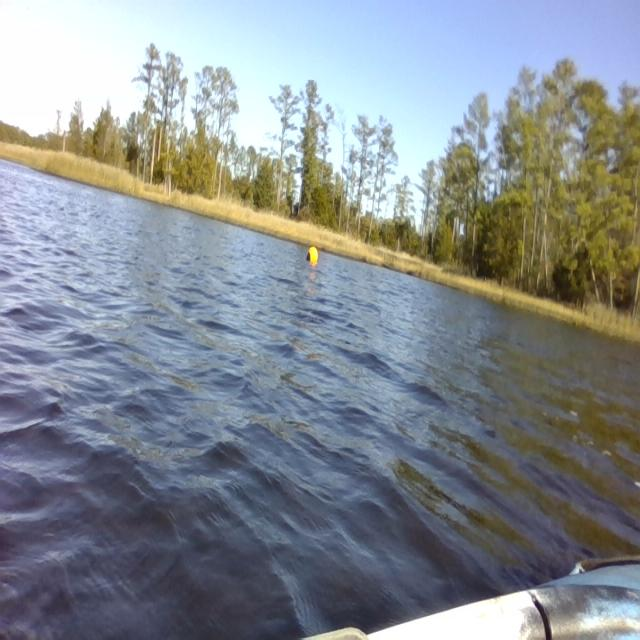Buoy: (305, 242, 320, 269)
